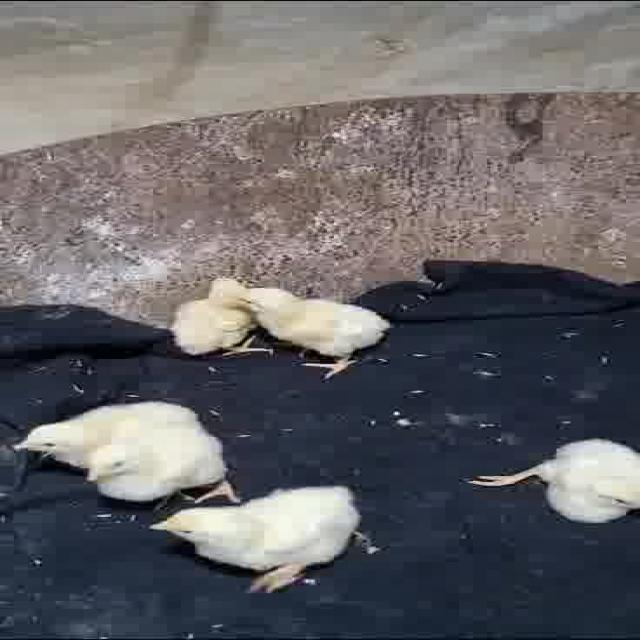poussin: (147, 479, 360, 596), (460, 431, 640, 533), (242, 286, 392, 378), (87, 426, 240, 505), (12, 400, 202, 461), (166, 278, 262, 360)
